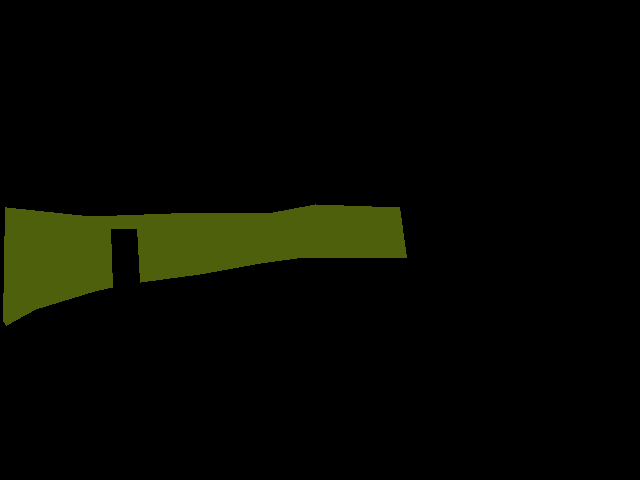Train: (3, 204, 407, 325)
